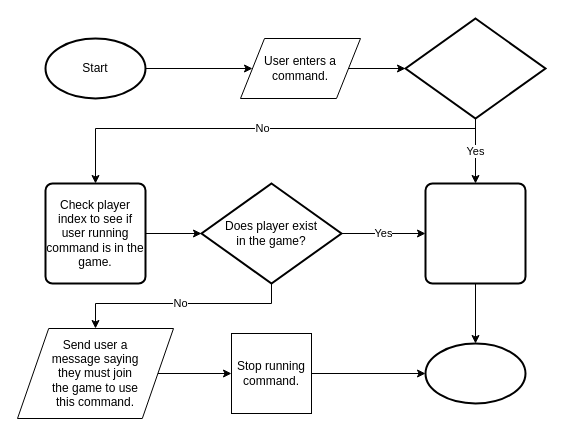
Image size: 564x436. Some labels were removed from this diagram. Here are the shapes that lost their labels. From the top down, the centre of each, then its label:
the point at 475,68: Check if command is join command.
the point at 475,233: Run command normally.
the point at 475,373: End
